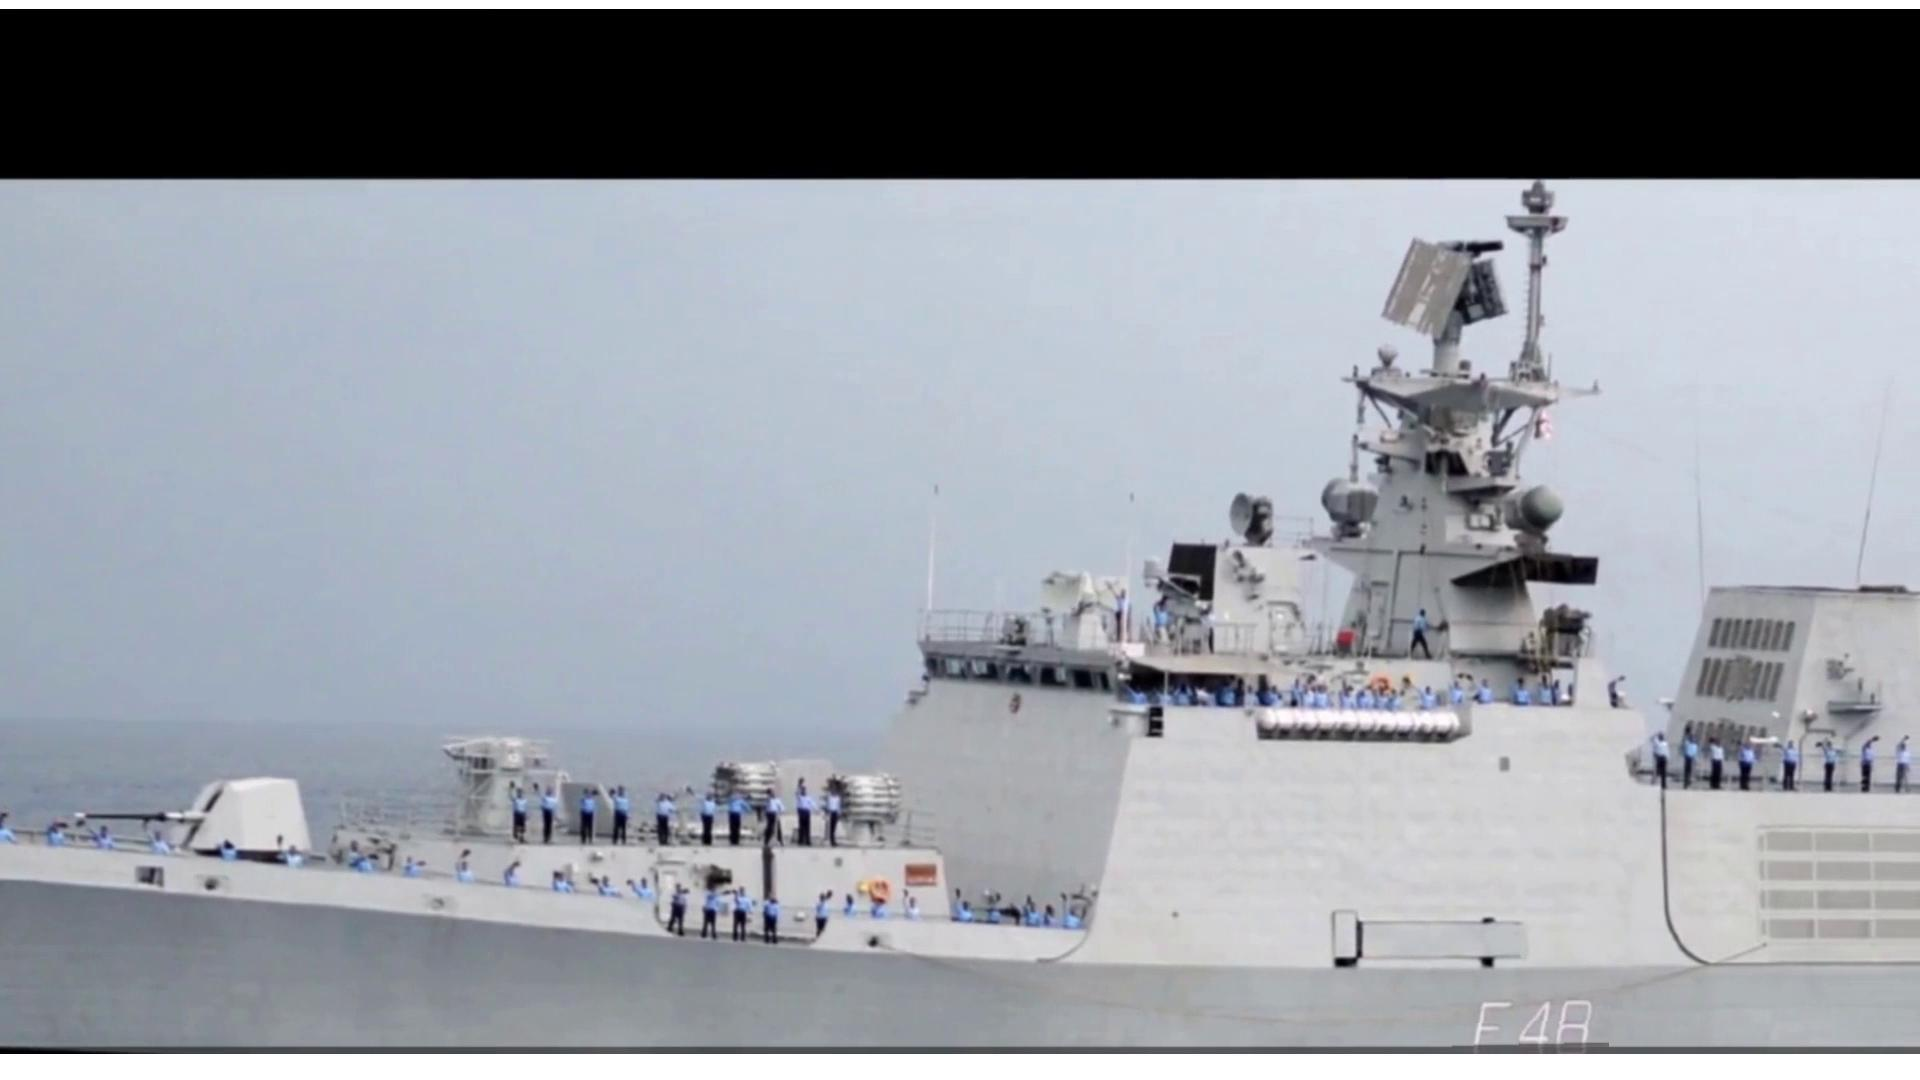OCR: (1452, 990, 1610, 1052)
